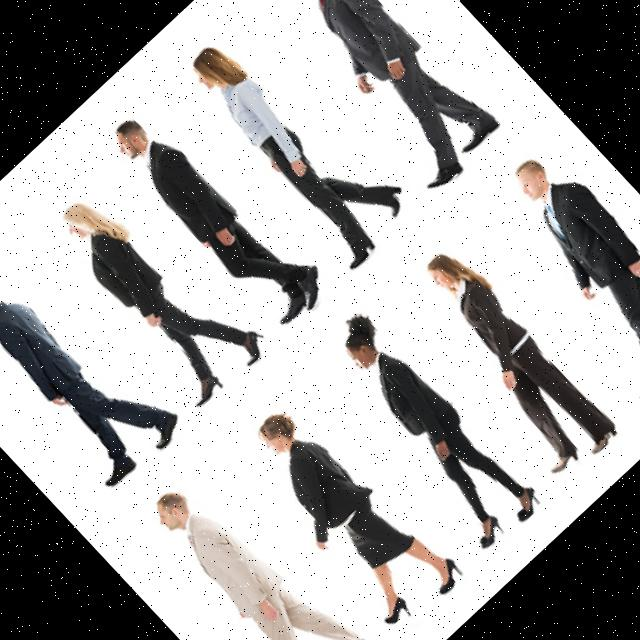Person: (172, 15, 420, 272), (307, 308, 544, 554), (36, 168, 274, 412), (230, 392, 467, 636), (390, 243, 622, 484), (106, 93, 336, 333), (245, 0, 506, 195), (110, 459, 380, 640), (0, 241, 187, 493), (468, 142, 640, 407)
